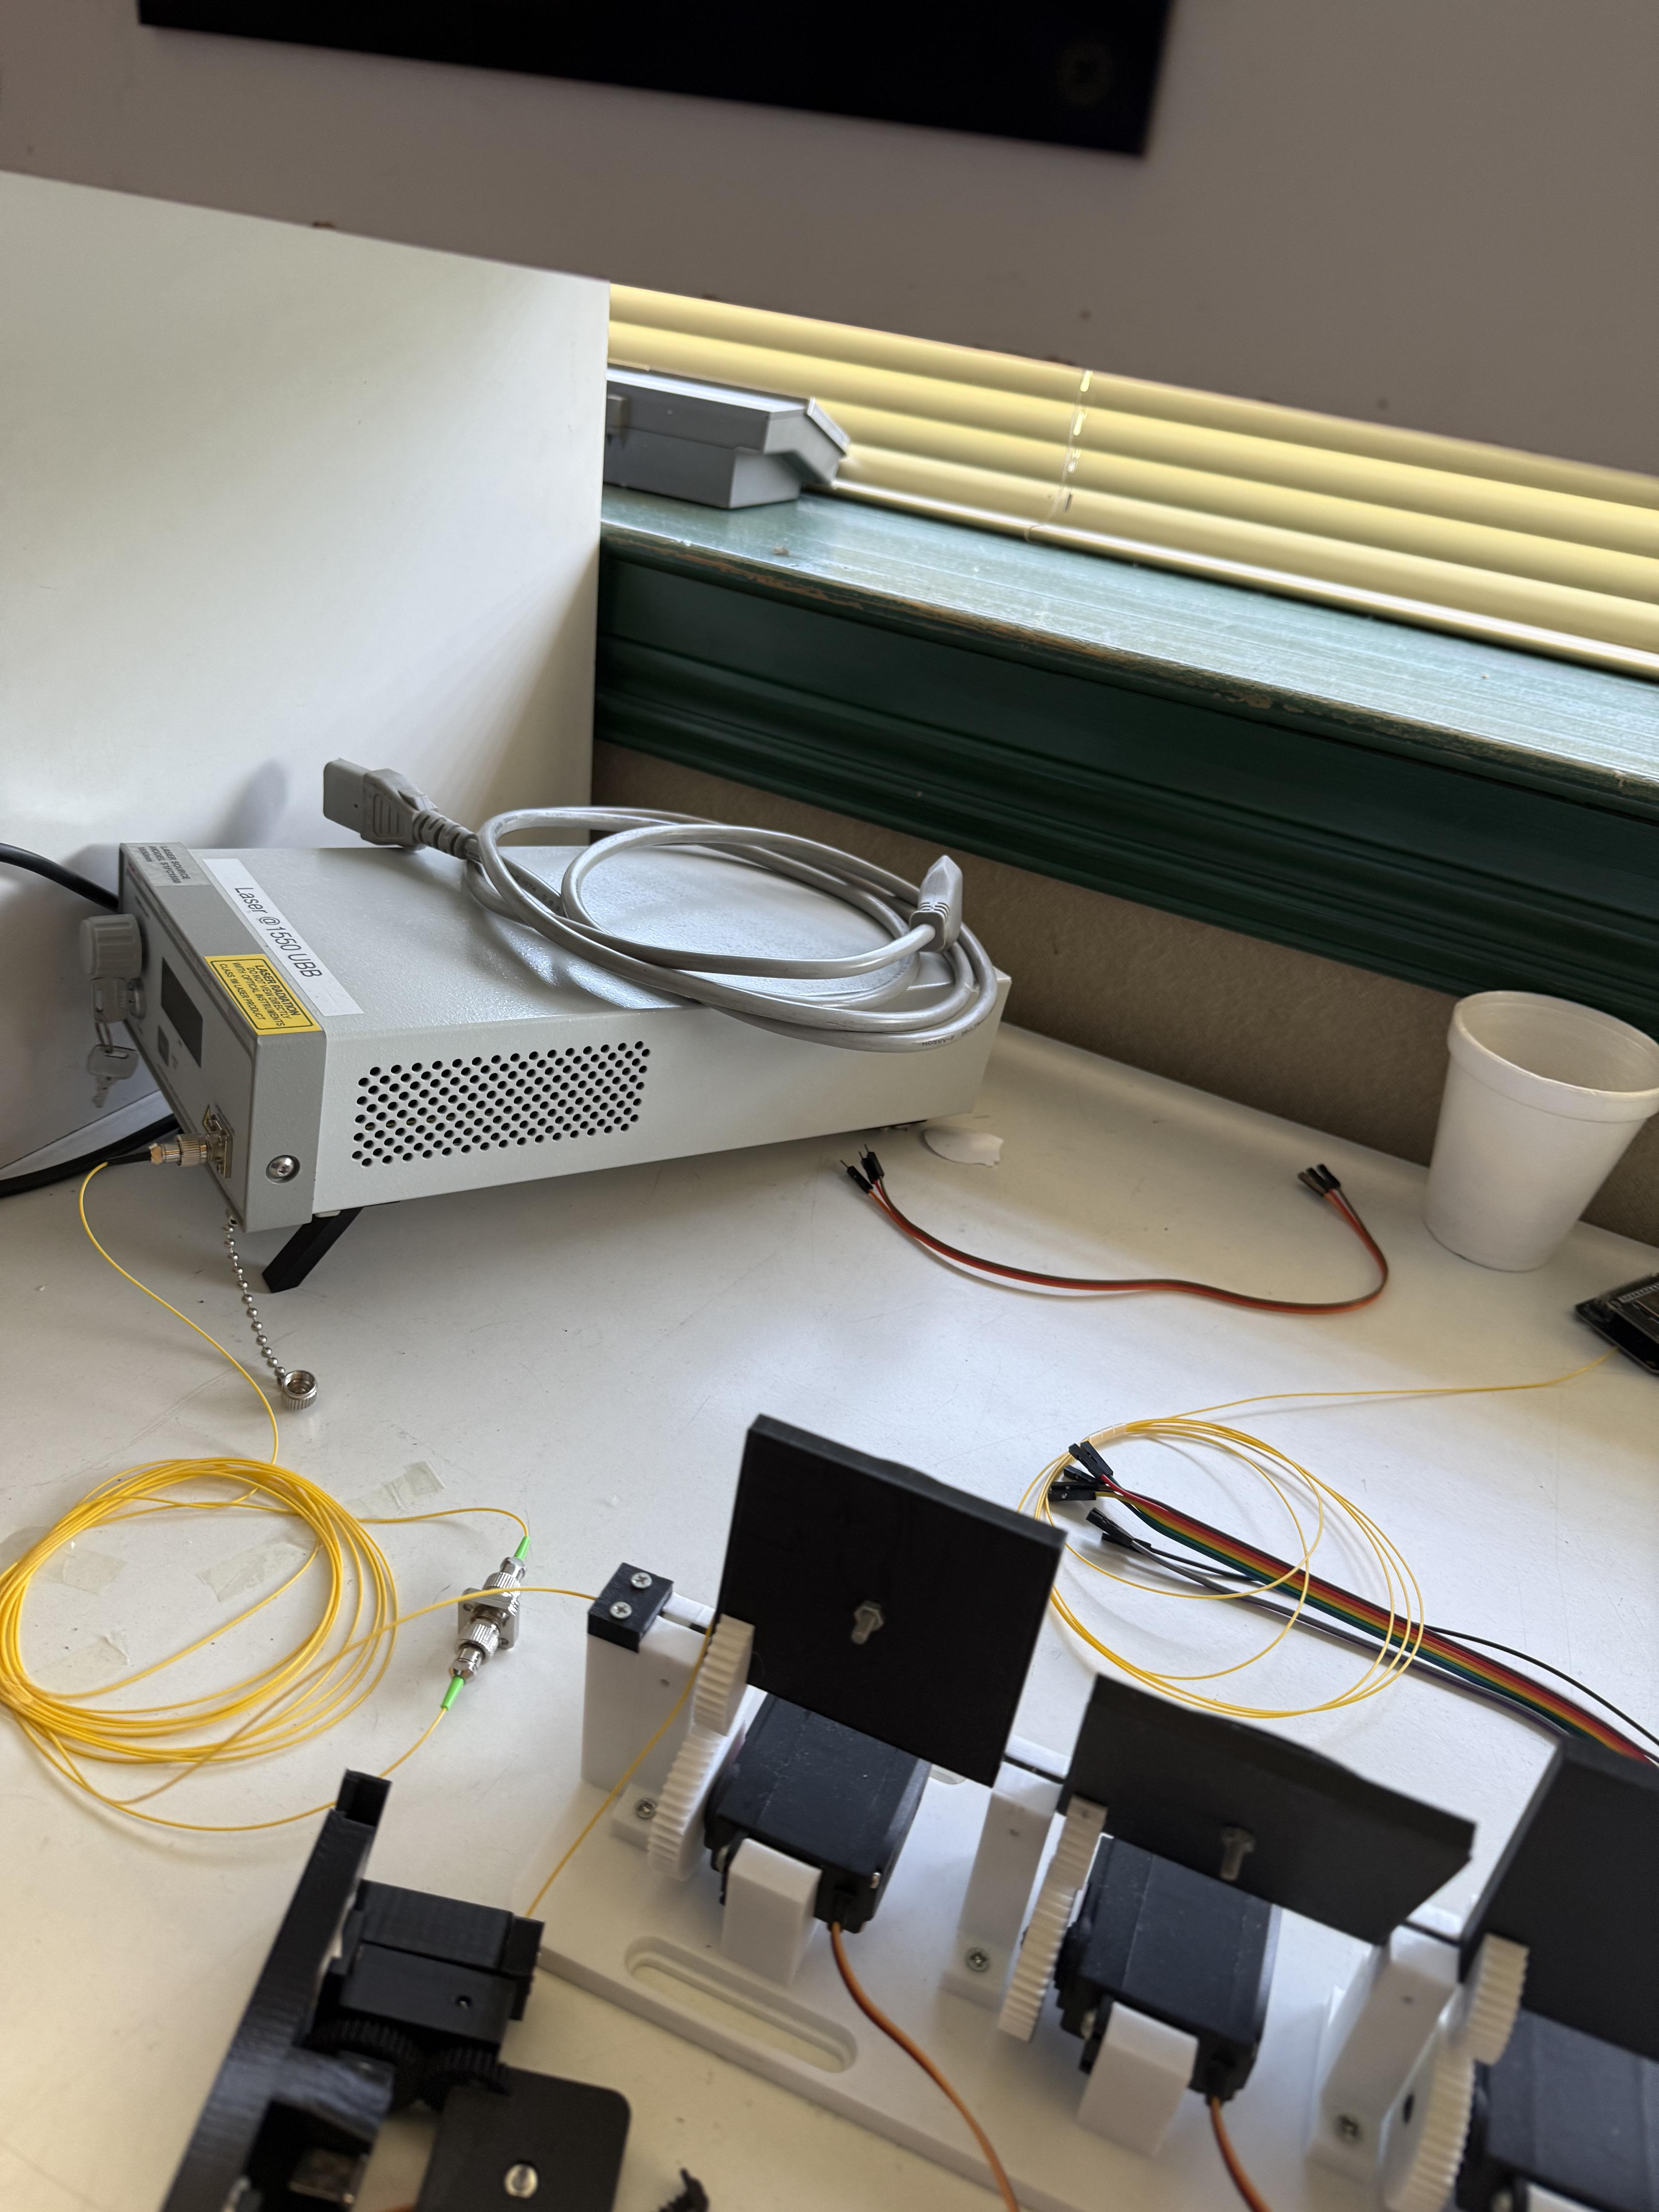laser: (73, 716, 1100, 1409)
paddle_polarization_controller: (500, 1367, 1659, 2212)
